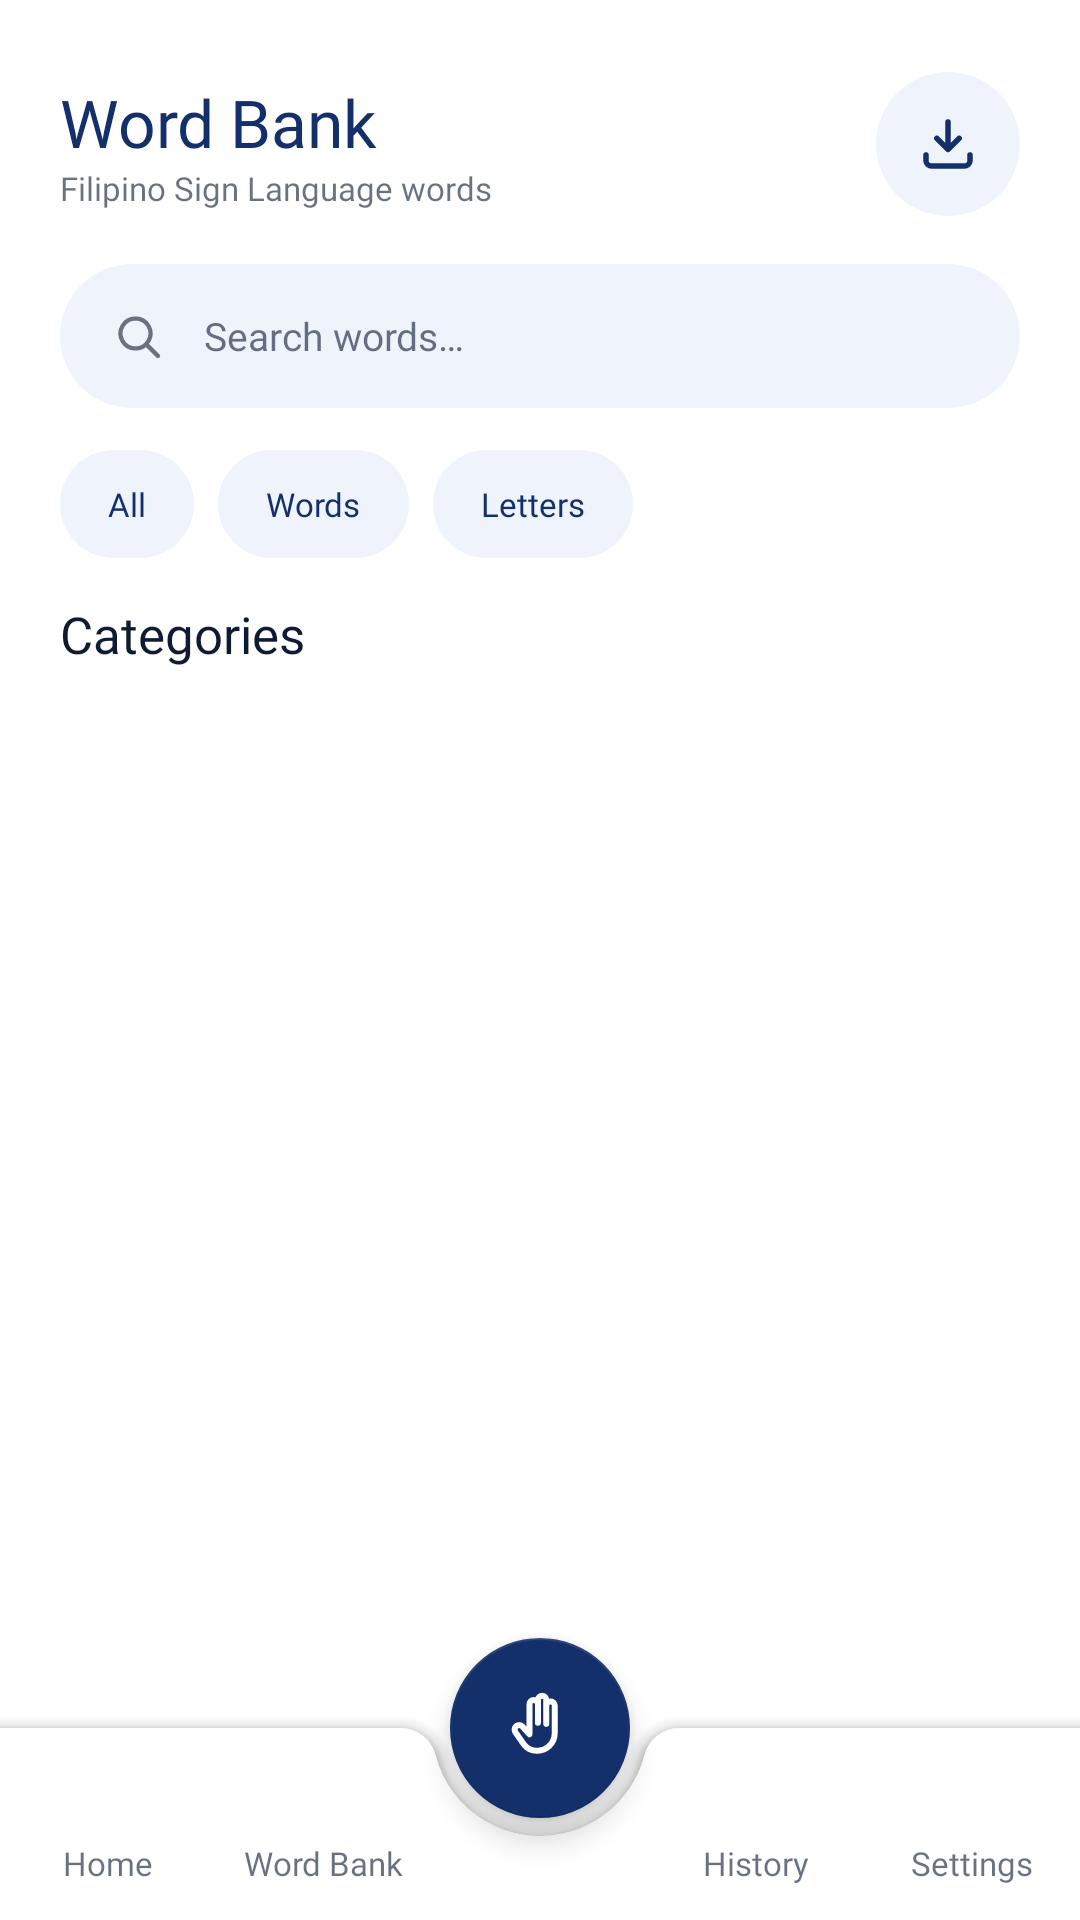

Icons on this 1080x1920 Android screen, each with the point to tap as [x,y]:
Download all demo videos for offline use: [948,144]
search line: [139,337]
